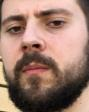without_mask: (1, 1, 89, 112)
